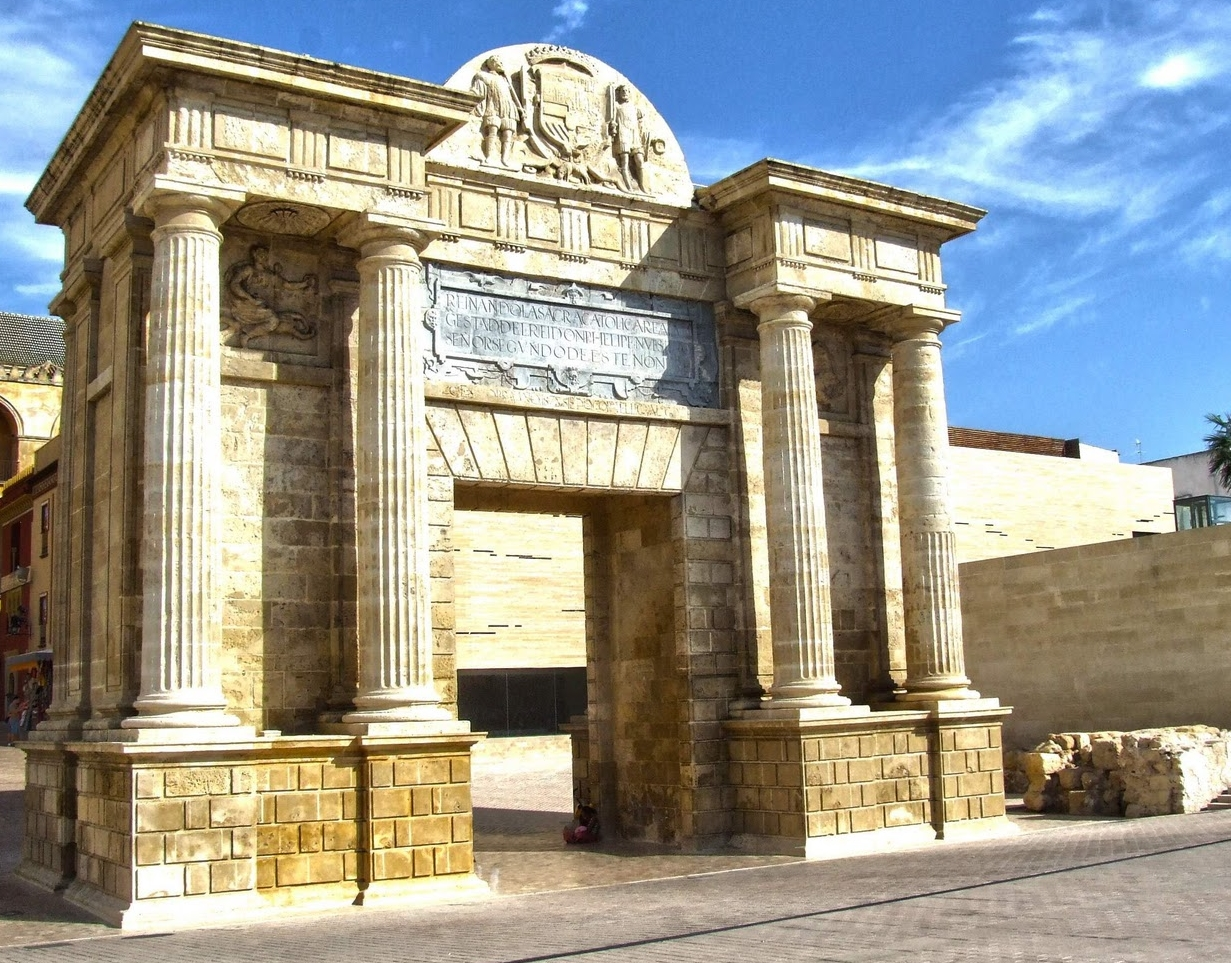vano-adintelado: (420, 449, 713, 856)
